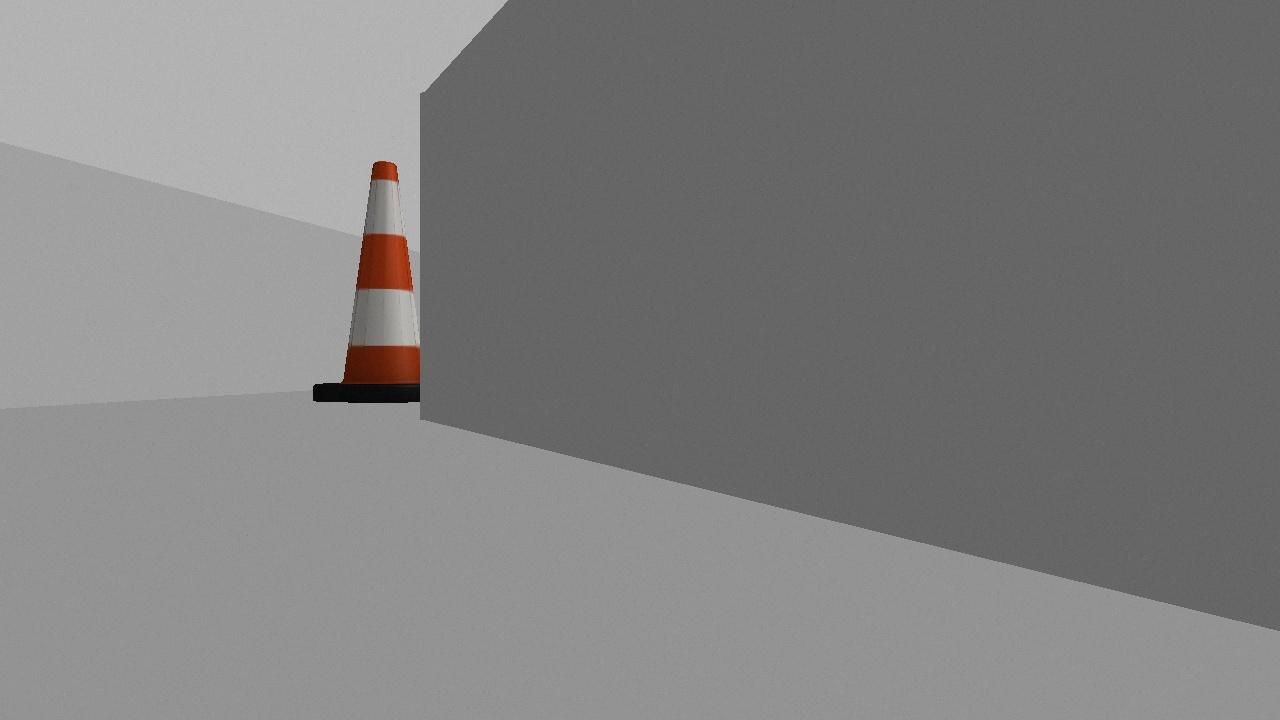cone_barrel: (311, 146, 455, 403)
